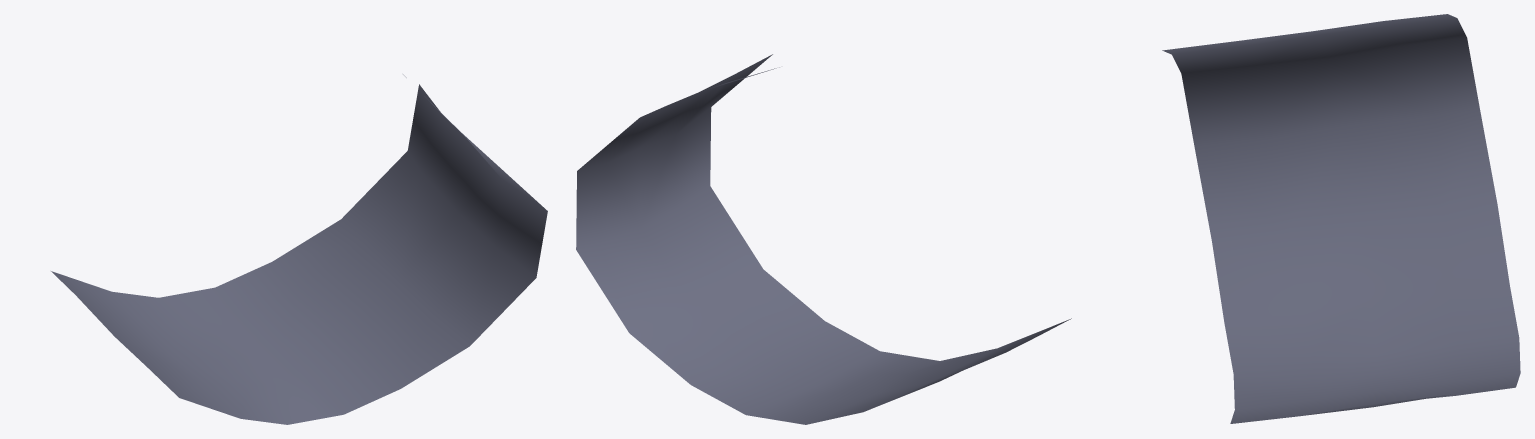
The model's file is Arctic_Luge_Tunnel_Left_Mid_C.glb.
The picture shows the model from 3 angles, left to right: view 1: azimuth 30°, elevation 25°; view 2: azimuth 150°, elevation 25°; view 3: azimuth 270°, elevation 25°; orthographic projection. The views are drawn at different scales.
Parts seen in each view (by area): view 1: Arctic_Luge_Tunnel_Left_Mid_C; view 2: Arctic_Luge_Tunnel_Left_Mid_C; view 3: Arctic_Luge_Tunnel_Left_Mid_C.
Boxes of the visible parts, x1,y1,x2,y2 form: Arctic_Luge_Tunnel_Left_Mid_C: [51, 74, 547, 424]; Arctic_Luge_Tunnel_Left_Mid_C: [576, 54, 1071, 424]; Arctic_Luge_Tunnel_Left_Mid_C: [1162, 14, 1520, 423].
Size of what is drawn, in the model's own units: 4.44 by 3.49 by 3.13.
